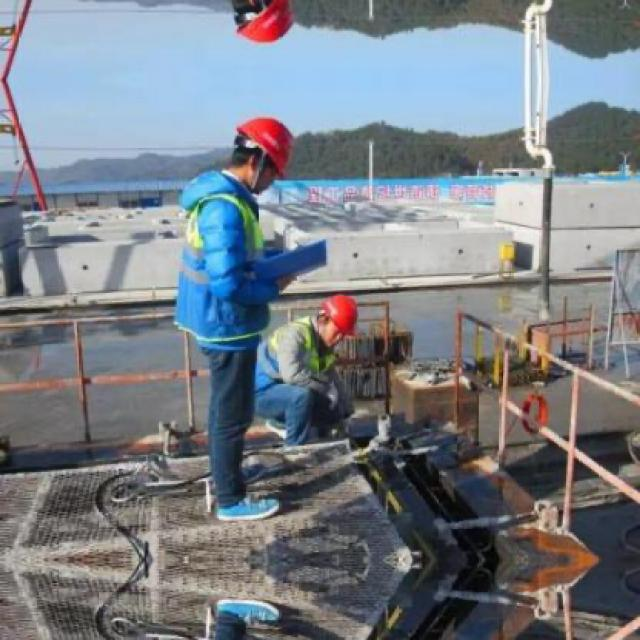helmet: (226, 111, 300, 191), (225, 0, 300, 51), (313, 291, 362, 344)
